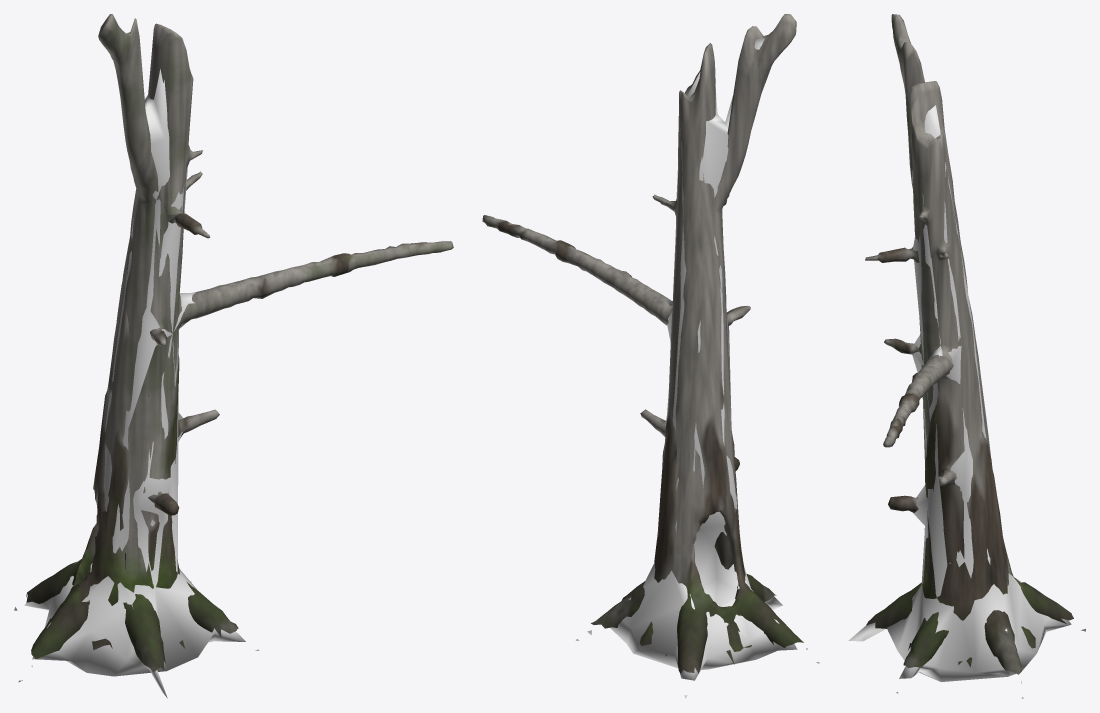
File: PROP_P2_DeadSnag_B.fbx
The picture shows the model from 3 angles, left to right: view 1: azimuth 30°, elevation 25°; view 2: azimuth 150°, elevation 25°; view 3: azimuth 270°, elevation 25°; orthographic projection. The views are drawn at different scales.
Visible parts, largest first — view 1: PROP_P2_DeadSnag_B_LOD0, PROP_P2_DeadSnag_B_COL; view 2: PROP_P2_DeadSnag_B_LOD0, PROP_P2_DeadSnag_B_COL; view 3: PROP_P2_DeadSnag_B_LOD0, PROP_P2_DeadSnag_B_COL.
Part boxes in pixels (box(x1,y1,x2,y2)): PROP_P2_DeadSnag_B_LOD0: box(26, 14, 453, 672); PROP_P2_DeadSnag_B_COL: box(14, 32, 259, 698); PROP_P2_DeadSnag_B_LOD0: box(482, 14, 803, 673); PROP_P2_DeadSnag_B_COL: box(576, 38, 819, 698); PROP_P2_DeadSnag_B_LOD0: box(865, 14, 1073, 674); PROP_P2_DeadSnag_B_COL: box(848, 105, 1085, 698).
Size of what is drawn, in the model's own units: 5.13 by 8.28 by 2.89.
